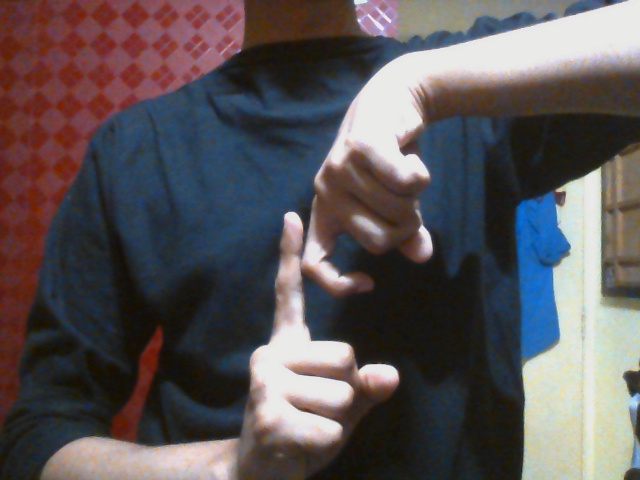K: (236, 147, 431, 474)
